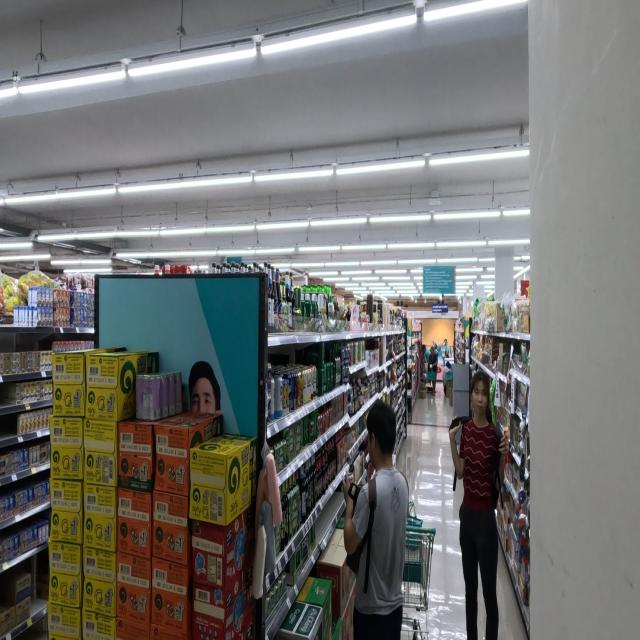shoplifting: (339, 395, 409, 640)
